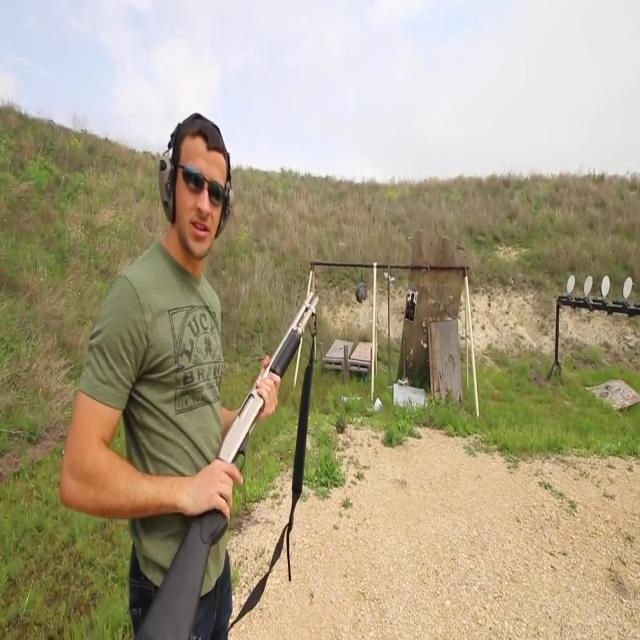Weapon: (140, 272, 344, 640)
